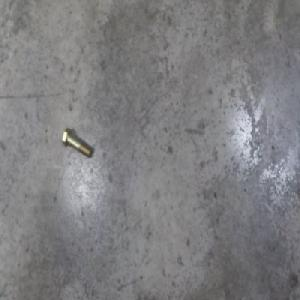Bolt: (61, 126, 92, 160)
